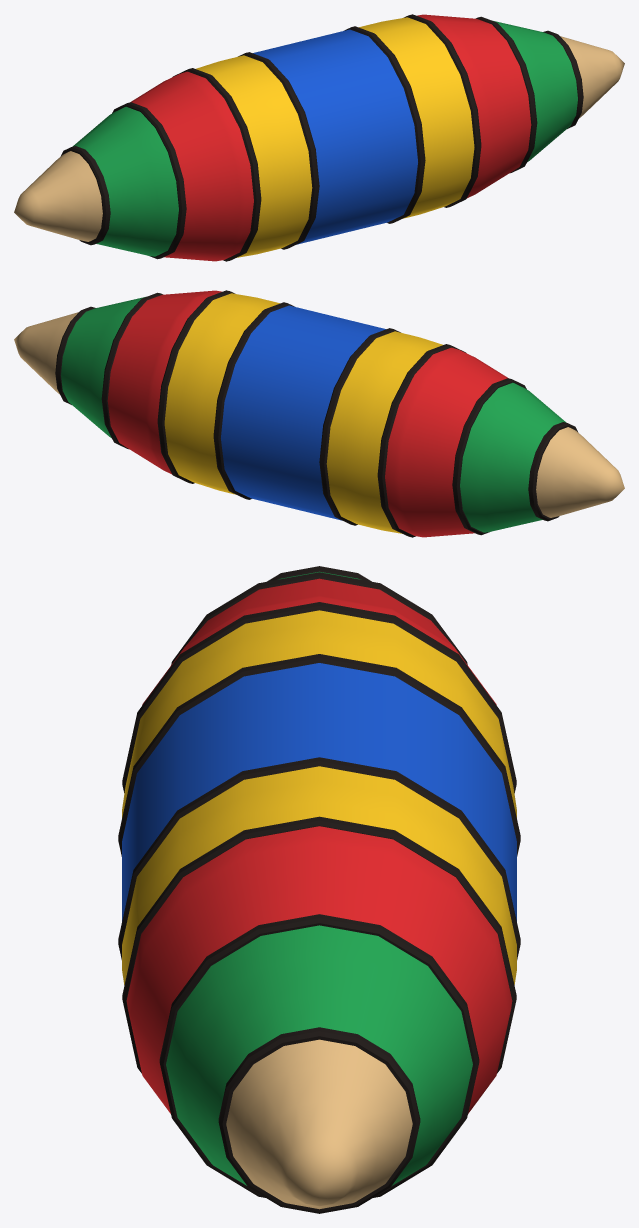
Rendered from gulli-painted.glb.
3 views of the same model, one above another, from view 1: azimuth 30°, elevation 25°; view 2: azimuth 150°, elevation 25°; view 3: azimuth 270°, elevation 25° (orthographic). The views are drawn at different scales.
Visible parts, largest first — view 1: GulliPainted_Red, GulliPainted_Yellow, GulliPainted_Blue, GulliPainted_Green, GulliPainted_Lines, GulliPainted_Wood; view 2: GulliPainted_Red, GulliPainted_Yellow, GulliPainted_Blue, GulliPainted_Green, GulliPainted_Lines, GulliPainted_Wood; view 3: GulliPainted_Red, GulliPainted_Green, GulliPainted_Blue, GulliPainted_Yellow, GulliPainted_Lines, GulliPainted_Wood.
Part boxes in pixels (<box>): GulliPainted_Red: <box>130,14,531,261</box>; GulliPainted_Yellow: <box>196,17,474,257</box>; GulliPainted_Blue: <box>253,29,417,244</box>; GulliPainted_Green: <box>73,21,577,256</box>; GulliPainted_Lines: <box>61,14,583,261</box>; GulliPainted_Wood: <box>14,36,624,241</box>; GulliPainted_Red: <box>107,290,508,537</box>; GulliPainted_Yellow: <box>164,293,442,533</box>; GulliPainted_Blue: <box>221,305,385,520</box>; GulliPainted_Green: <box>61,297,565,532</box>; GulliPainted_Lines: <box>55,290,577,537</box>; GulliPainted_Wood: <box>14,312,624,517</box>; GulliPainted_Red: <box>126,578,512,1113</box>; GulliPainted_Green: <box>166,571,472,1185</box>; GulliPainted_Blue: <box>122,663,516,921</box>; GulliPainted_Yellow: <box>122,610,516,984</box>; GulliPainted_Lines: <box>118,566,520,1213</box>; GulliPainted_Wood: <box>226,1039,412,1209</box>.
Size of the model in its own units: 1.5 by 0.428 by 0.428.
